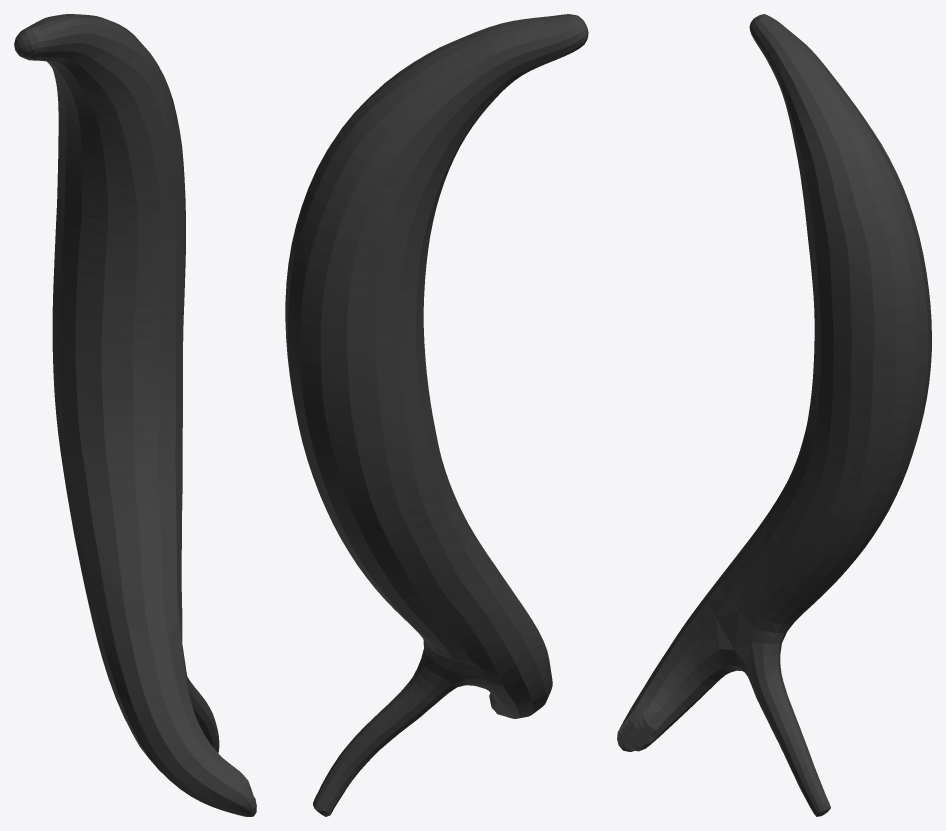
File: Semitendinosus.glb
The picture shows the model from 3 angles, left to right: view 1: azimuth 30°, elevation 25°; view 2: azimuth 150°, elevation 25°; view 3: azimuth 270°, elevation 25°; orthographic projection. The views are drawn at different scales.
Visible parts, largest first — view 1: Semitendinosus; view 2: Semitendinosus; view 3: Semitendinosus.
Part boxes in pixels (x1=…): Semitendinosus: x1=14, y1=14, x2=256, y2=816; Semitendinosus: x1=285, y1=14, x2=588, y2=816; Semitendinosus: x1=617, y1=14, x2=931, y2=816.
Bounding box in the file's own units: 36.1 × 119 × 47.74.
Materials: 1 (1 with a texture image).
